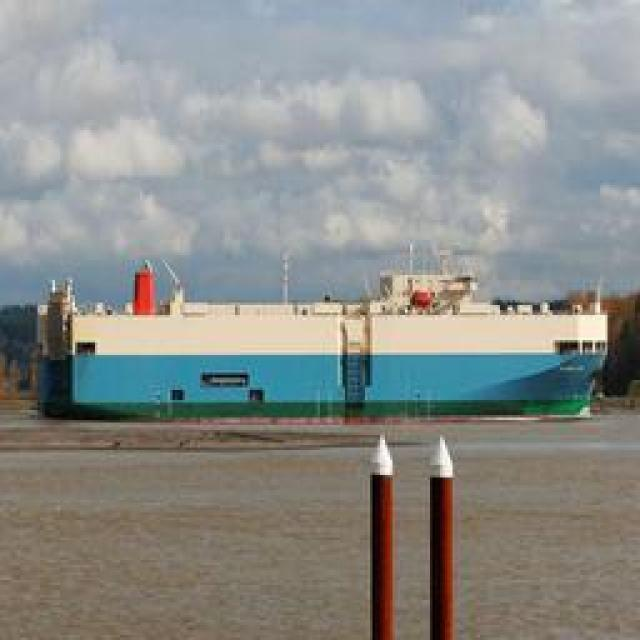CIV_Ship: (40, 288, 612, 418)
